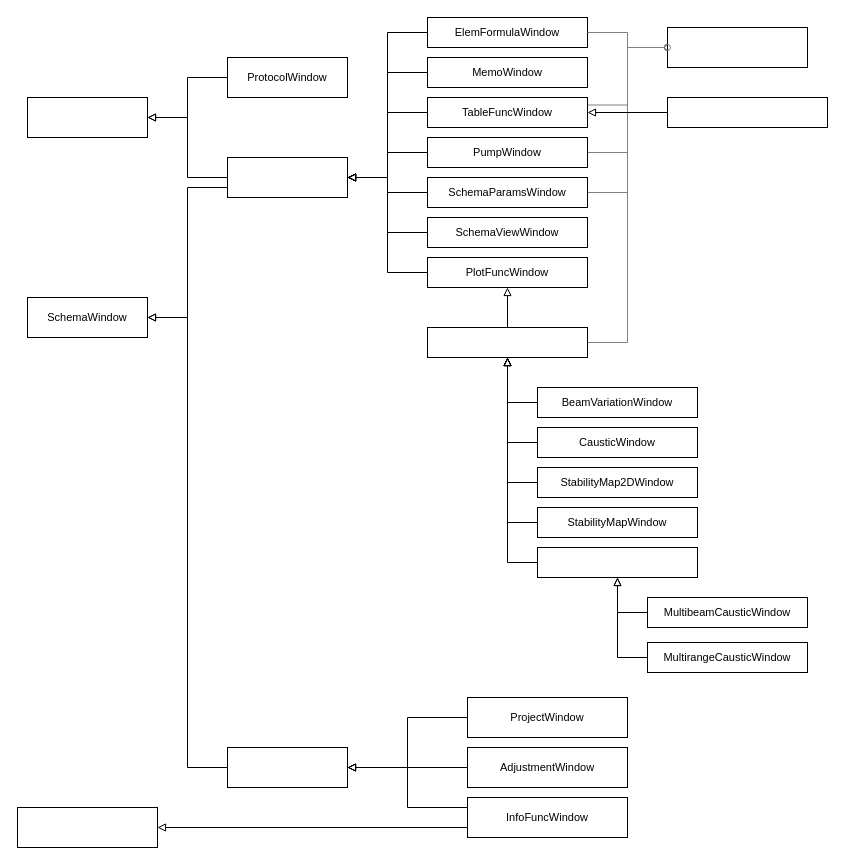
This 845x865 diagram has some shape labels left out. The shapes that lost their labels are listed below. From the top down, each one's centre as x and y in pixels, then its label:
At point 737,47: "ISchemaWindowStorable".
At point 87,117: "BasicMdiChild (QMdiSubWindow)".
At point 747,112: "BeamParamsAtElemsWindow".
At point 287,177: "SchemaMdiChild".
At point 507,342: "PlotFuncWindowStorable".
At point 617,562: "MulticausticWindow".
At point 287,767: "SchemaToolWindow".
At point 87,827: "ShortcutHandlerWindow (QWidget)".
